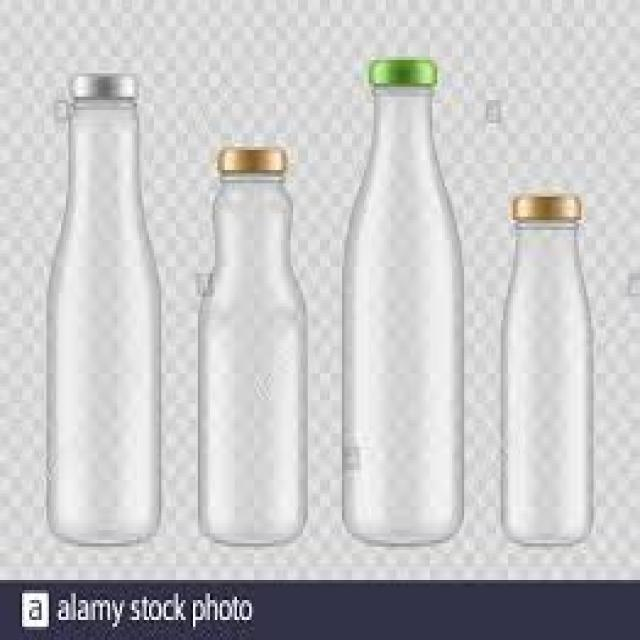Glass: (327, 47, 475, 556), (38, 50, 173, 546), (186, 127, 314, 547), (481, 150, 606, 547)
